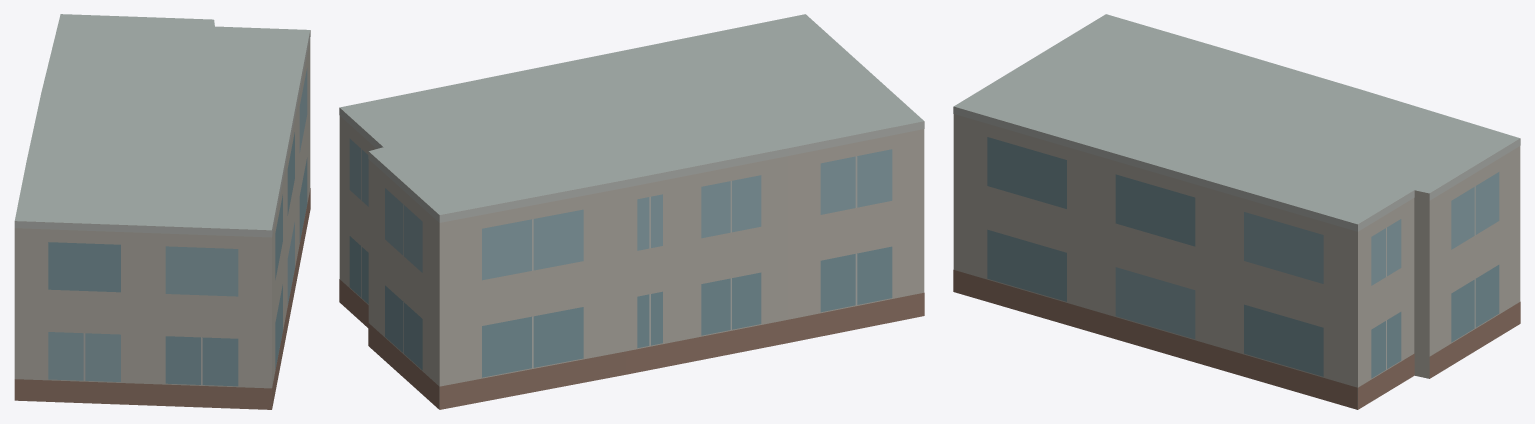
Rendered from survey-upis-32626934.glb.
3 renders of one model, left to right at view 1: azimuth 30°, elevation 25°; view 2: azimuth 150°, elevation 25°; view 3: azimuth 270°, elevation 25°, orthographic. The views are drawn at different scales.
Visible parts, largest first — view 1: survey-upis-32626934.tmp; view 2: survey-upis-32626934.tmp; view 3: survey-upis-32626934.tmp.
Part boxes in pixels (x1,y1,x2,y2): survey-upis-32626934.tmp: (14, 14, 310, 409); survey-upis-32626934.tmp: (339, 14, 924, 409); survey-upis-32626934.tmp: (953, 14, 1520, 409).
Size of the model in its own units: 14.85 by 6.1 by 16.91.
